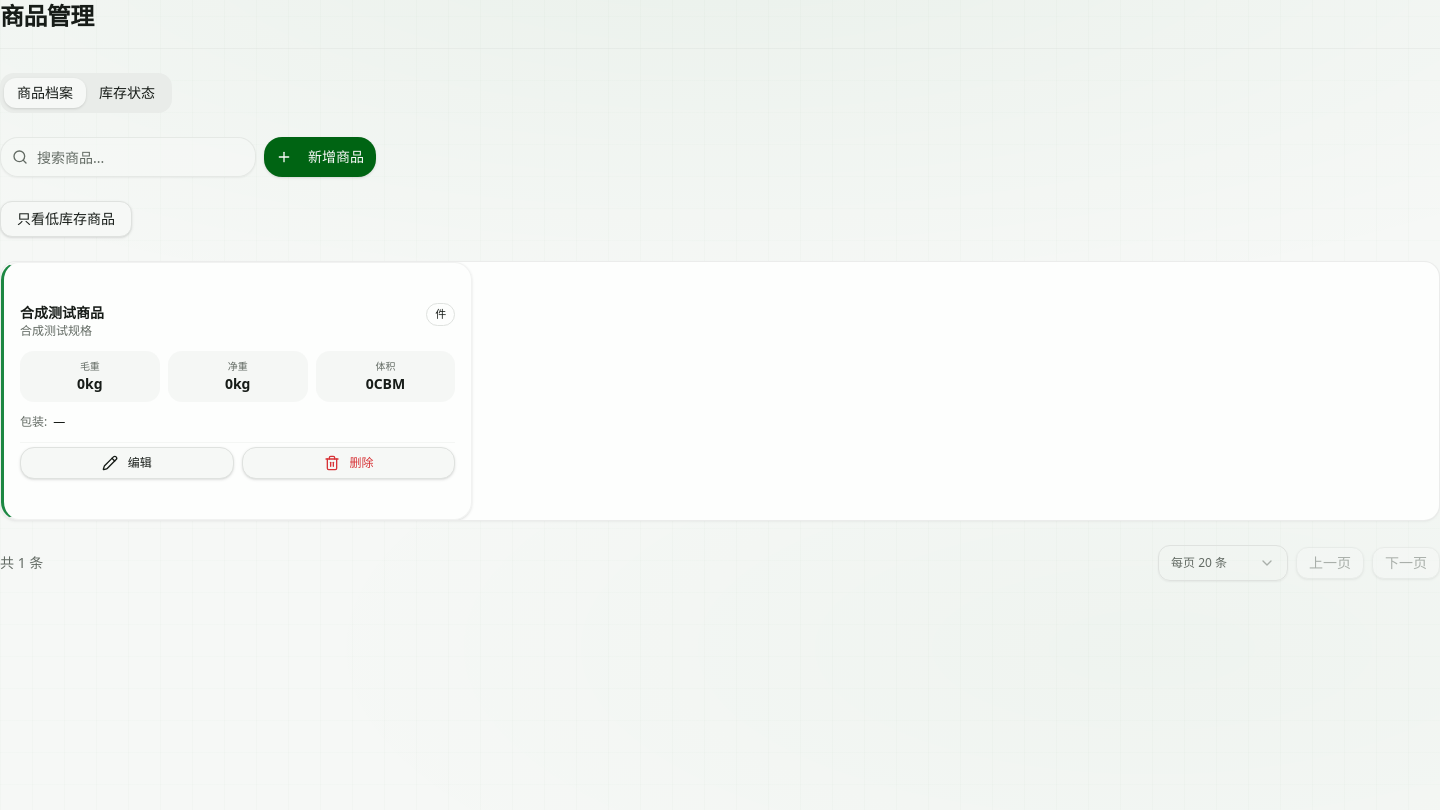
Test case: ProductsPage 保存会话 › 保存 create 失败保留整份草稿，重试成功才关闭
Click the button "新增商品" at (320, 157), box left=264, top=137, right=376, bottom=177
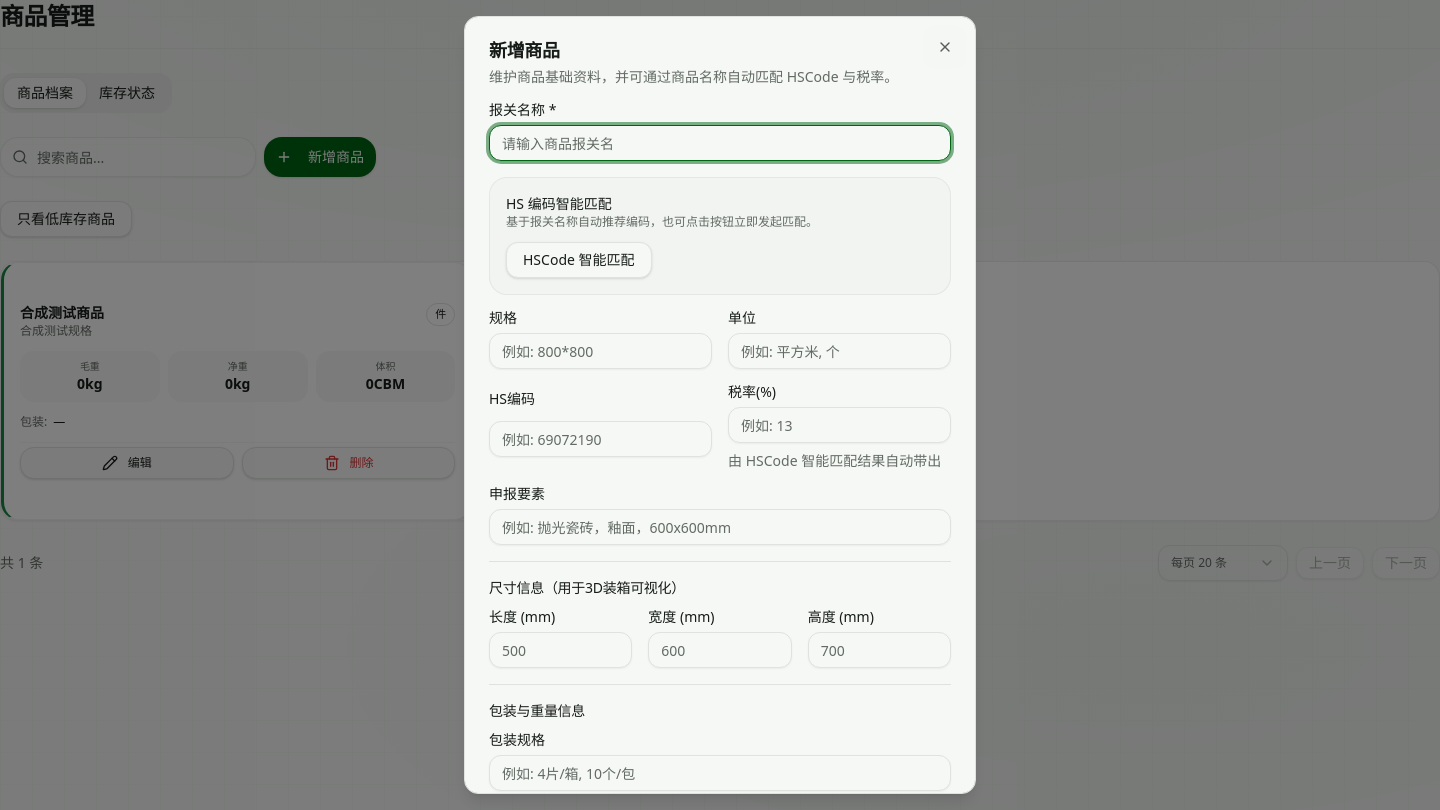
Type "合成保存失败商品" into the field labelled "报关名称 *" at (720, 143), box left=489, top=125, right=951, bottom=161
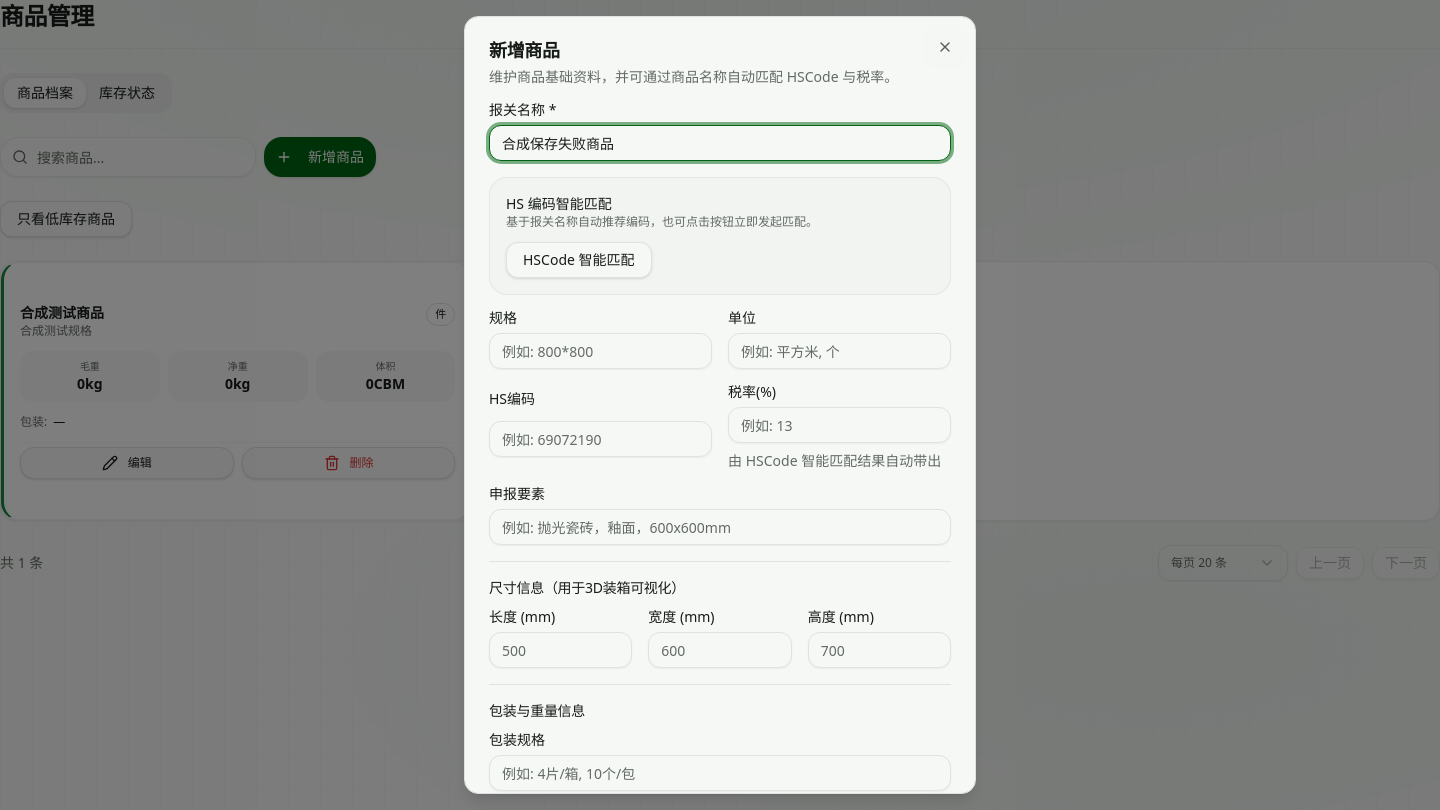
Type "重试时应保留规格" into the field labelled "规格" at (600, 351), box left=489, top=333, right=712, bottom=369
(page scrolled)
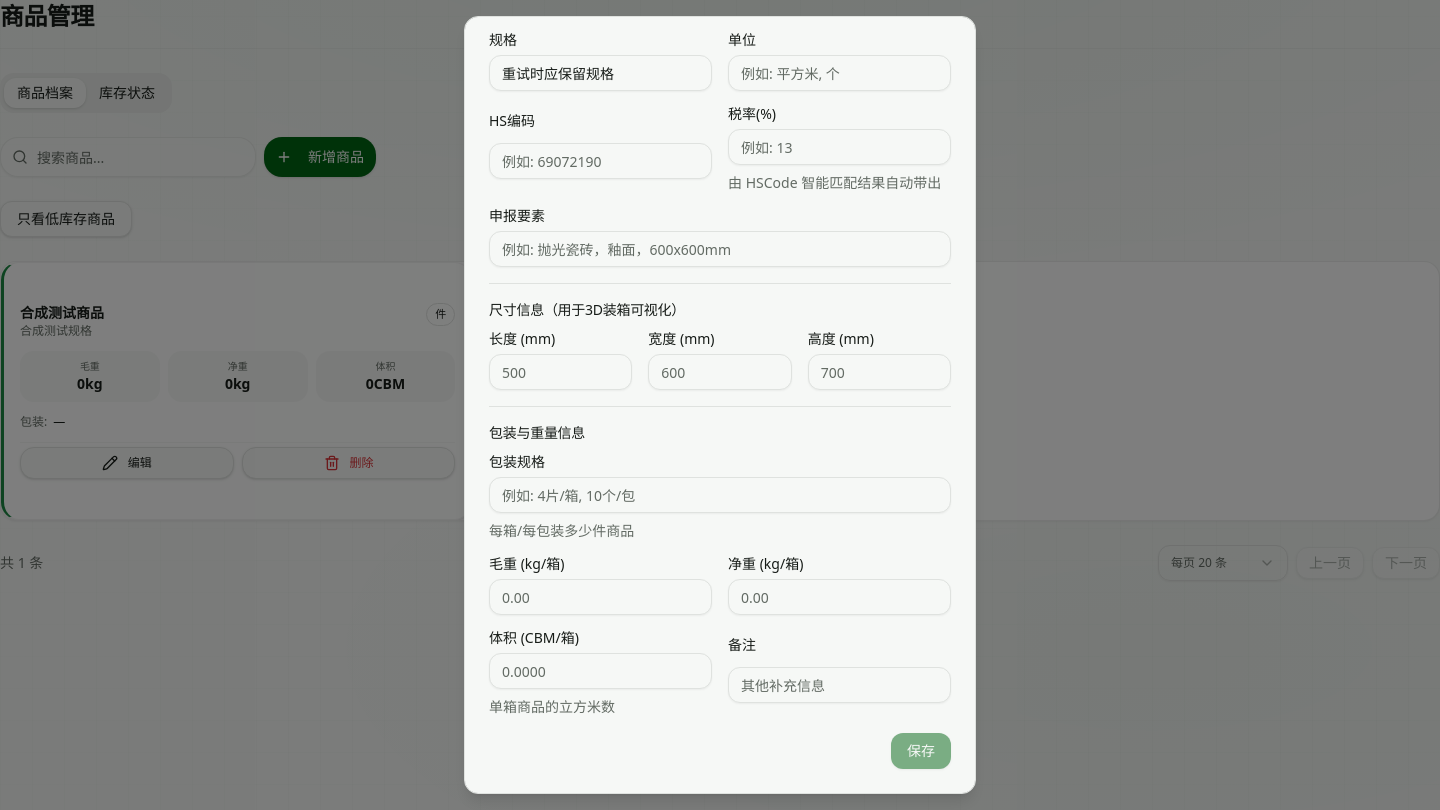
Type "7" into the number field labelled "毛重 (kg/箱)" at (600, 597), box left=489, top=579, right=712, bottom=615
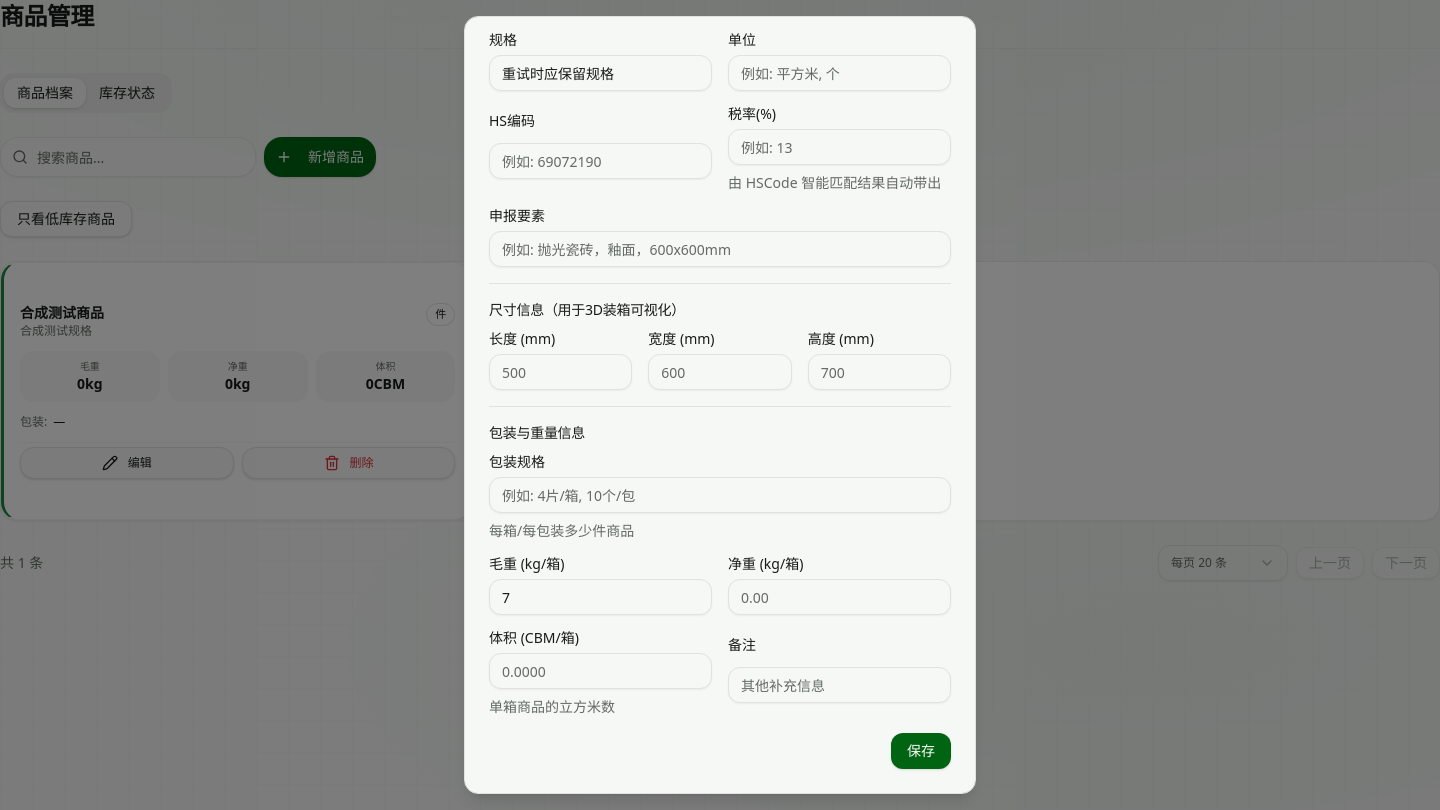
Check: the button "保存" is enabled
Click the button "保存" at (921, 751), box left=891, top=733, right=951, bottom=769
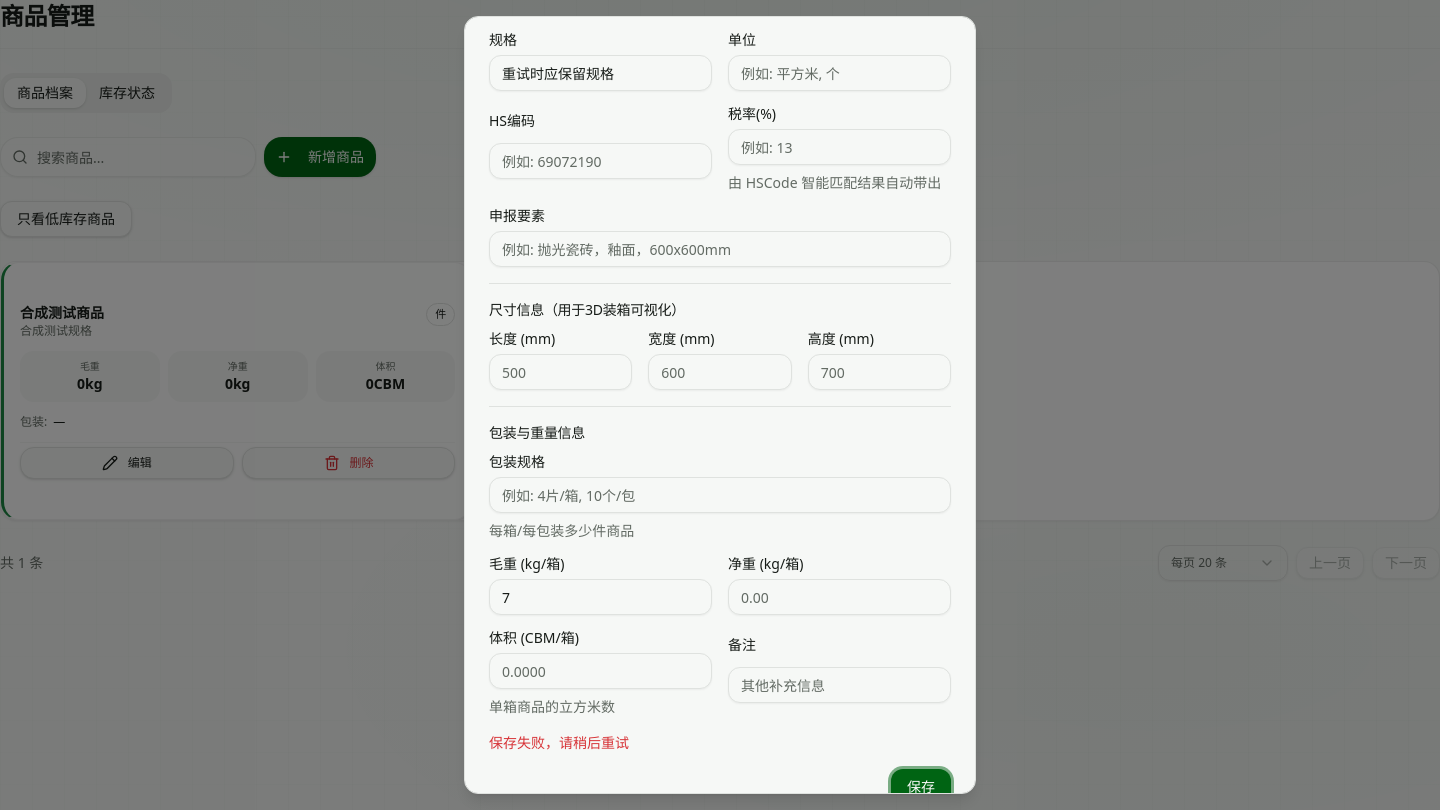
Check: the dialog is shown, box left=464, top=16, right=976, bottom=794
Click the button "保存" at (921, 787), box left=891, top=769, right=951, bottom=805
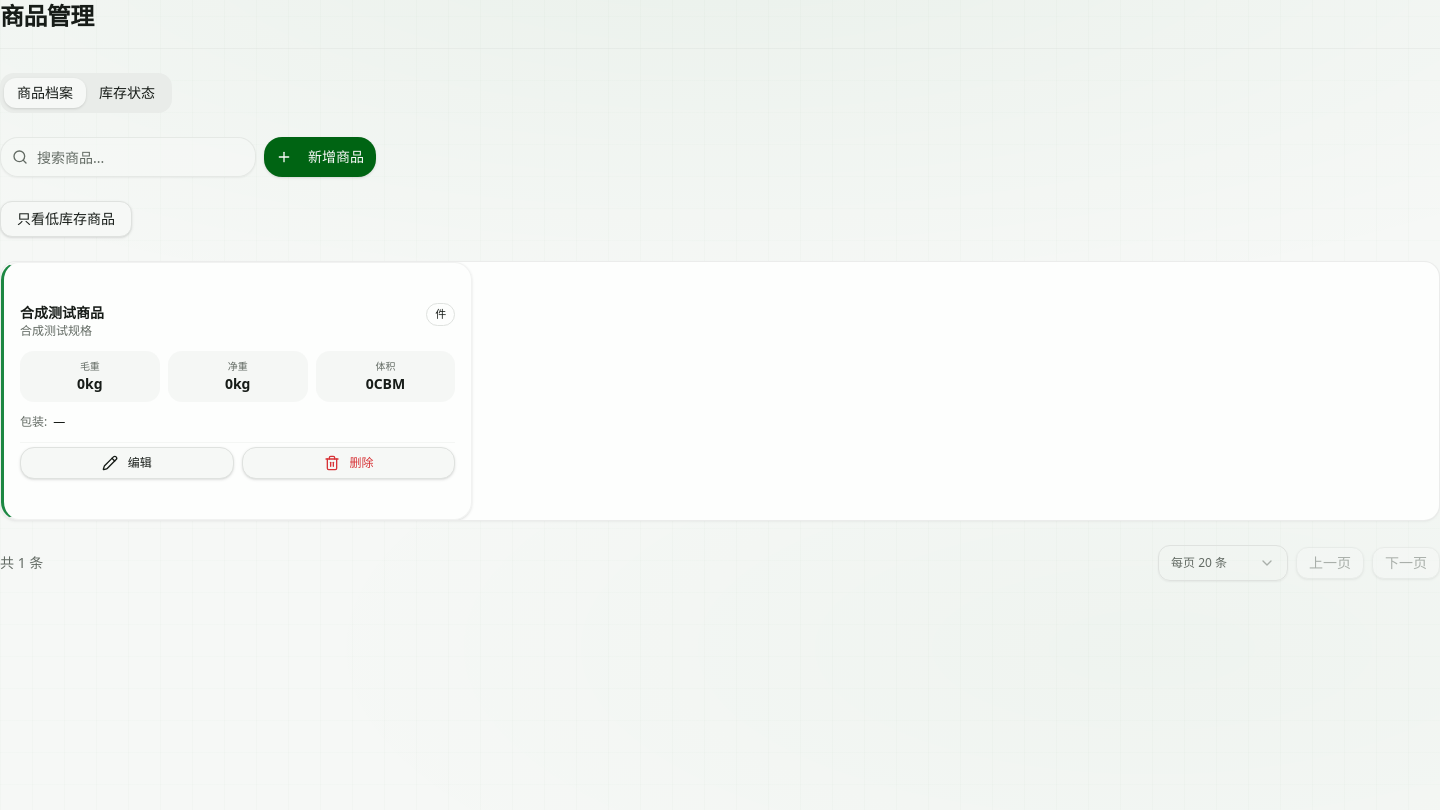
Check: the dialog is gone
